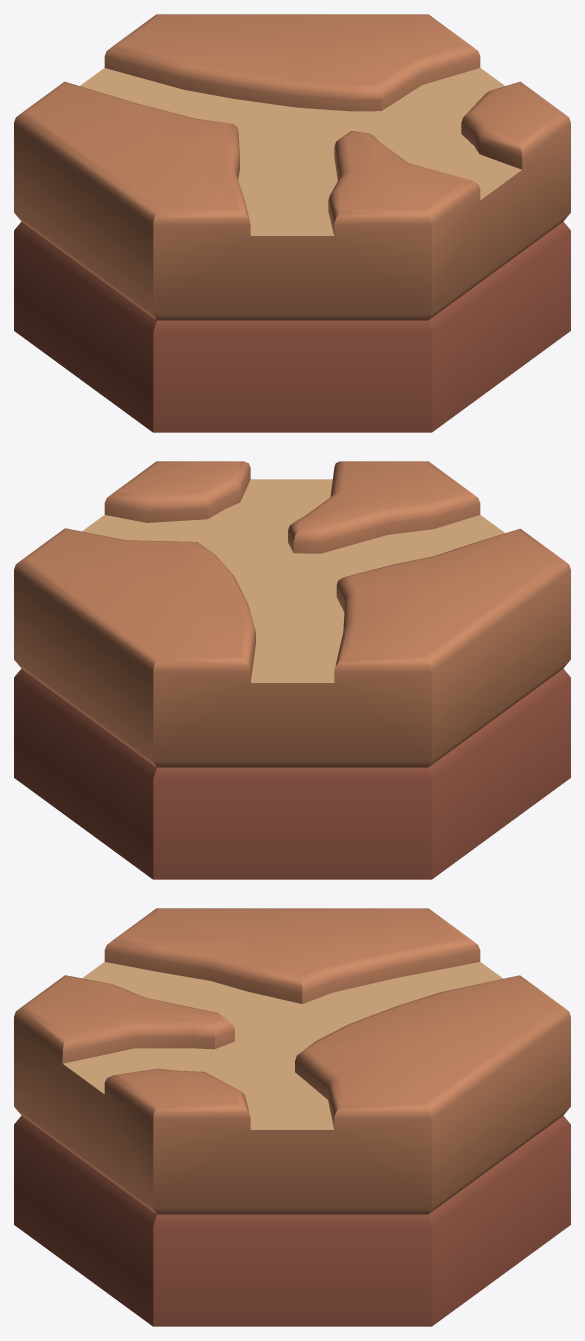
The model's file is hex_rock_roadI_detail.glb.
The picture shows the model from 3 angles, top to bottom: view 1: azimuth 30°, elevation 25°; view 2: azimuth 150°, elevation 25°; view 3: azimuth 270°, elevation 25°; orthographic projection.
Parts seen in each view (by area): view 1: hex_rock_roadI_detail; view 2: hex_rock_roadI_detail; view 3: hex_rock_roadI_detail.
Boxes of the visible parts, x1,y1,x2,y2 form: hex_rock_roadI_detail: (14, 14, 570, 432); hex_rock_roadI_detail: (14, 461, 570, 879); hex_rock_roadI_detail: (14, 908, 570, 1326).
Size of the model in its own units: 2 by 1 by 2.31.
